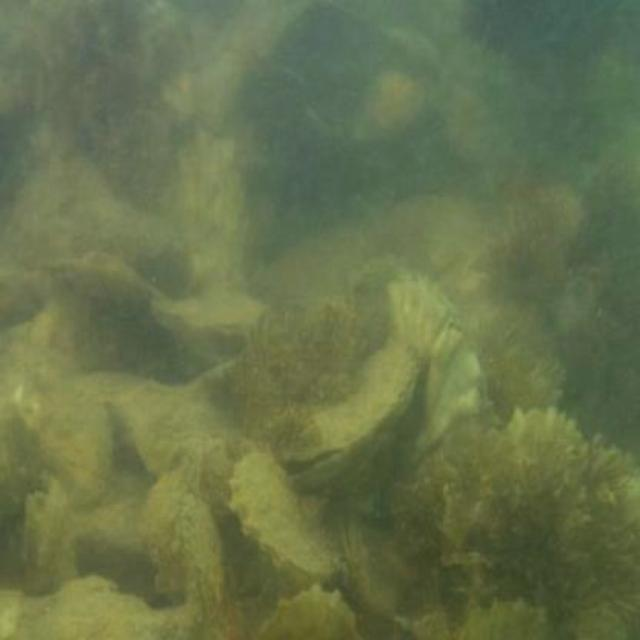Oyster-Closed: (389, 279, 493, 473), (232, 455, 339, 585), (171, 127, 248, 296), (36, 377, 113, 505), (137, 439, 199, 559), (342, 511, 413, 611), (46, 253, 164, 311), (25, 488, 84, 595), (184, 502, 227, 632), (150, 293, 269, 336), (255, 590, 360, 638), (461, 598, 554, 638)
Oyster-Open: (282, 349, 418, 487)
